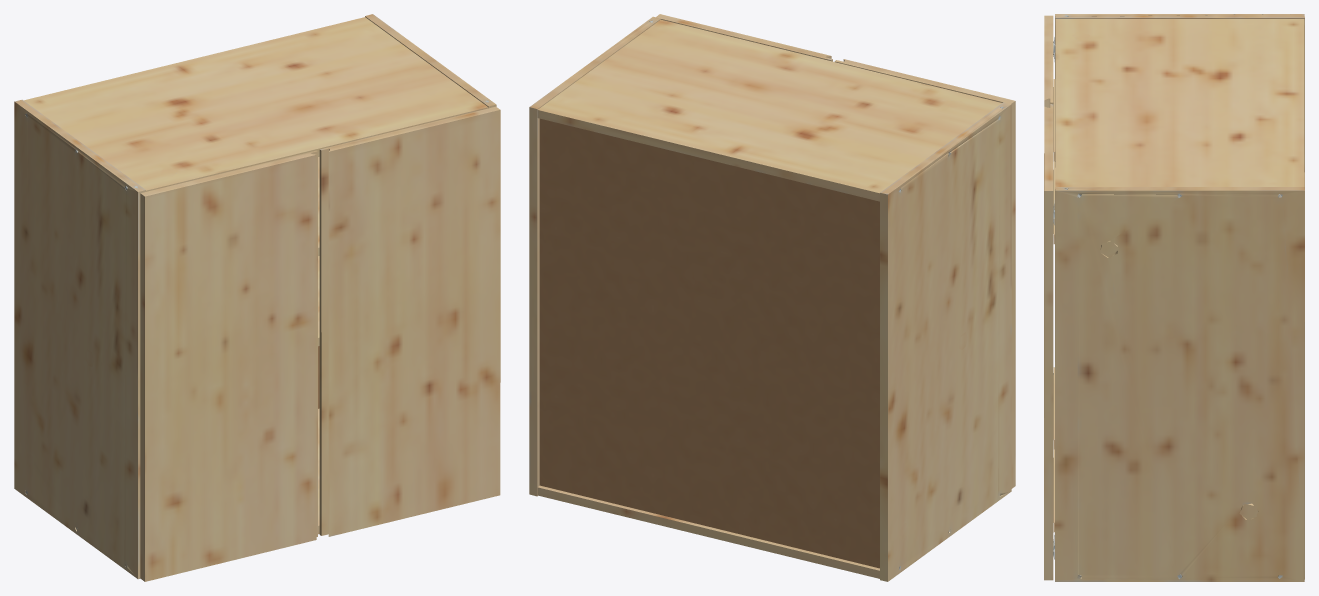
The model's file is 16 - IVAR Cabinet - pine 80x50x83 cm.glb.
3 views of the same model, side by side, from view 1: azimuth 30°, elevation 25°; view 2: azimuth 150°, elevation 25°; view 3: azimuth 270°, elevation 25° (orthographic).
Parts seen in each view (by area): view 1: 70033766-IVAR001; view 2: 70033766-IVAR001; view 3: 70033766-IVAR001.
Part boxes in pixels (x1,y1,x2,y2): 70033766-IVAR001: (14,14,500,581); 70033766-IVAR001: (529,14,1015,581); 70033766-IVAR001: (1044,14,1304,581).
Bounding box in the file's own units: 0.8 × 0.826 × 0.4987.
Materials: 1 (1 with a texture image).
